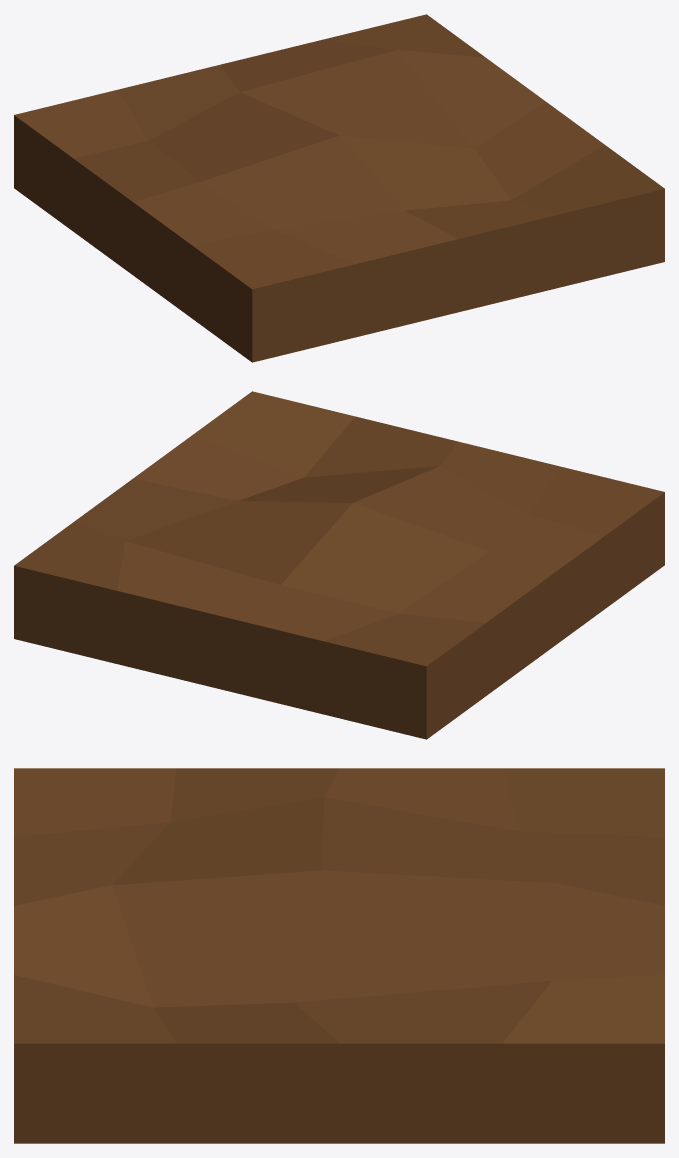
Rendered from CaveRoof2.fbx.
3 views of the same model, one above another, from view 1: azimuth 30°, elevation 25°; view 2: azimuth 150°, elevation 25°; view 3: azimuth 270°, elevation 25° (orthographic). The views are drawn at different scales.
Parts seen in each view (by area): view 1: Cube.002; view 2: Cube.002; view 3: Cube.002.
Boxes of the visible parts, bbox=[...] form: Cube.002: bbox=[14, 14, 664, 362]; Cube.002: bbox=[14, 391, 664, 739]; Cube.002: bbox=[14, 768, 664, 1143].
Size of the model in its own units: 200 by 44.44 by 200.
